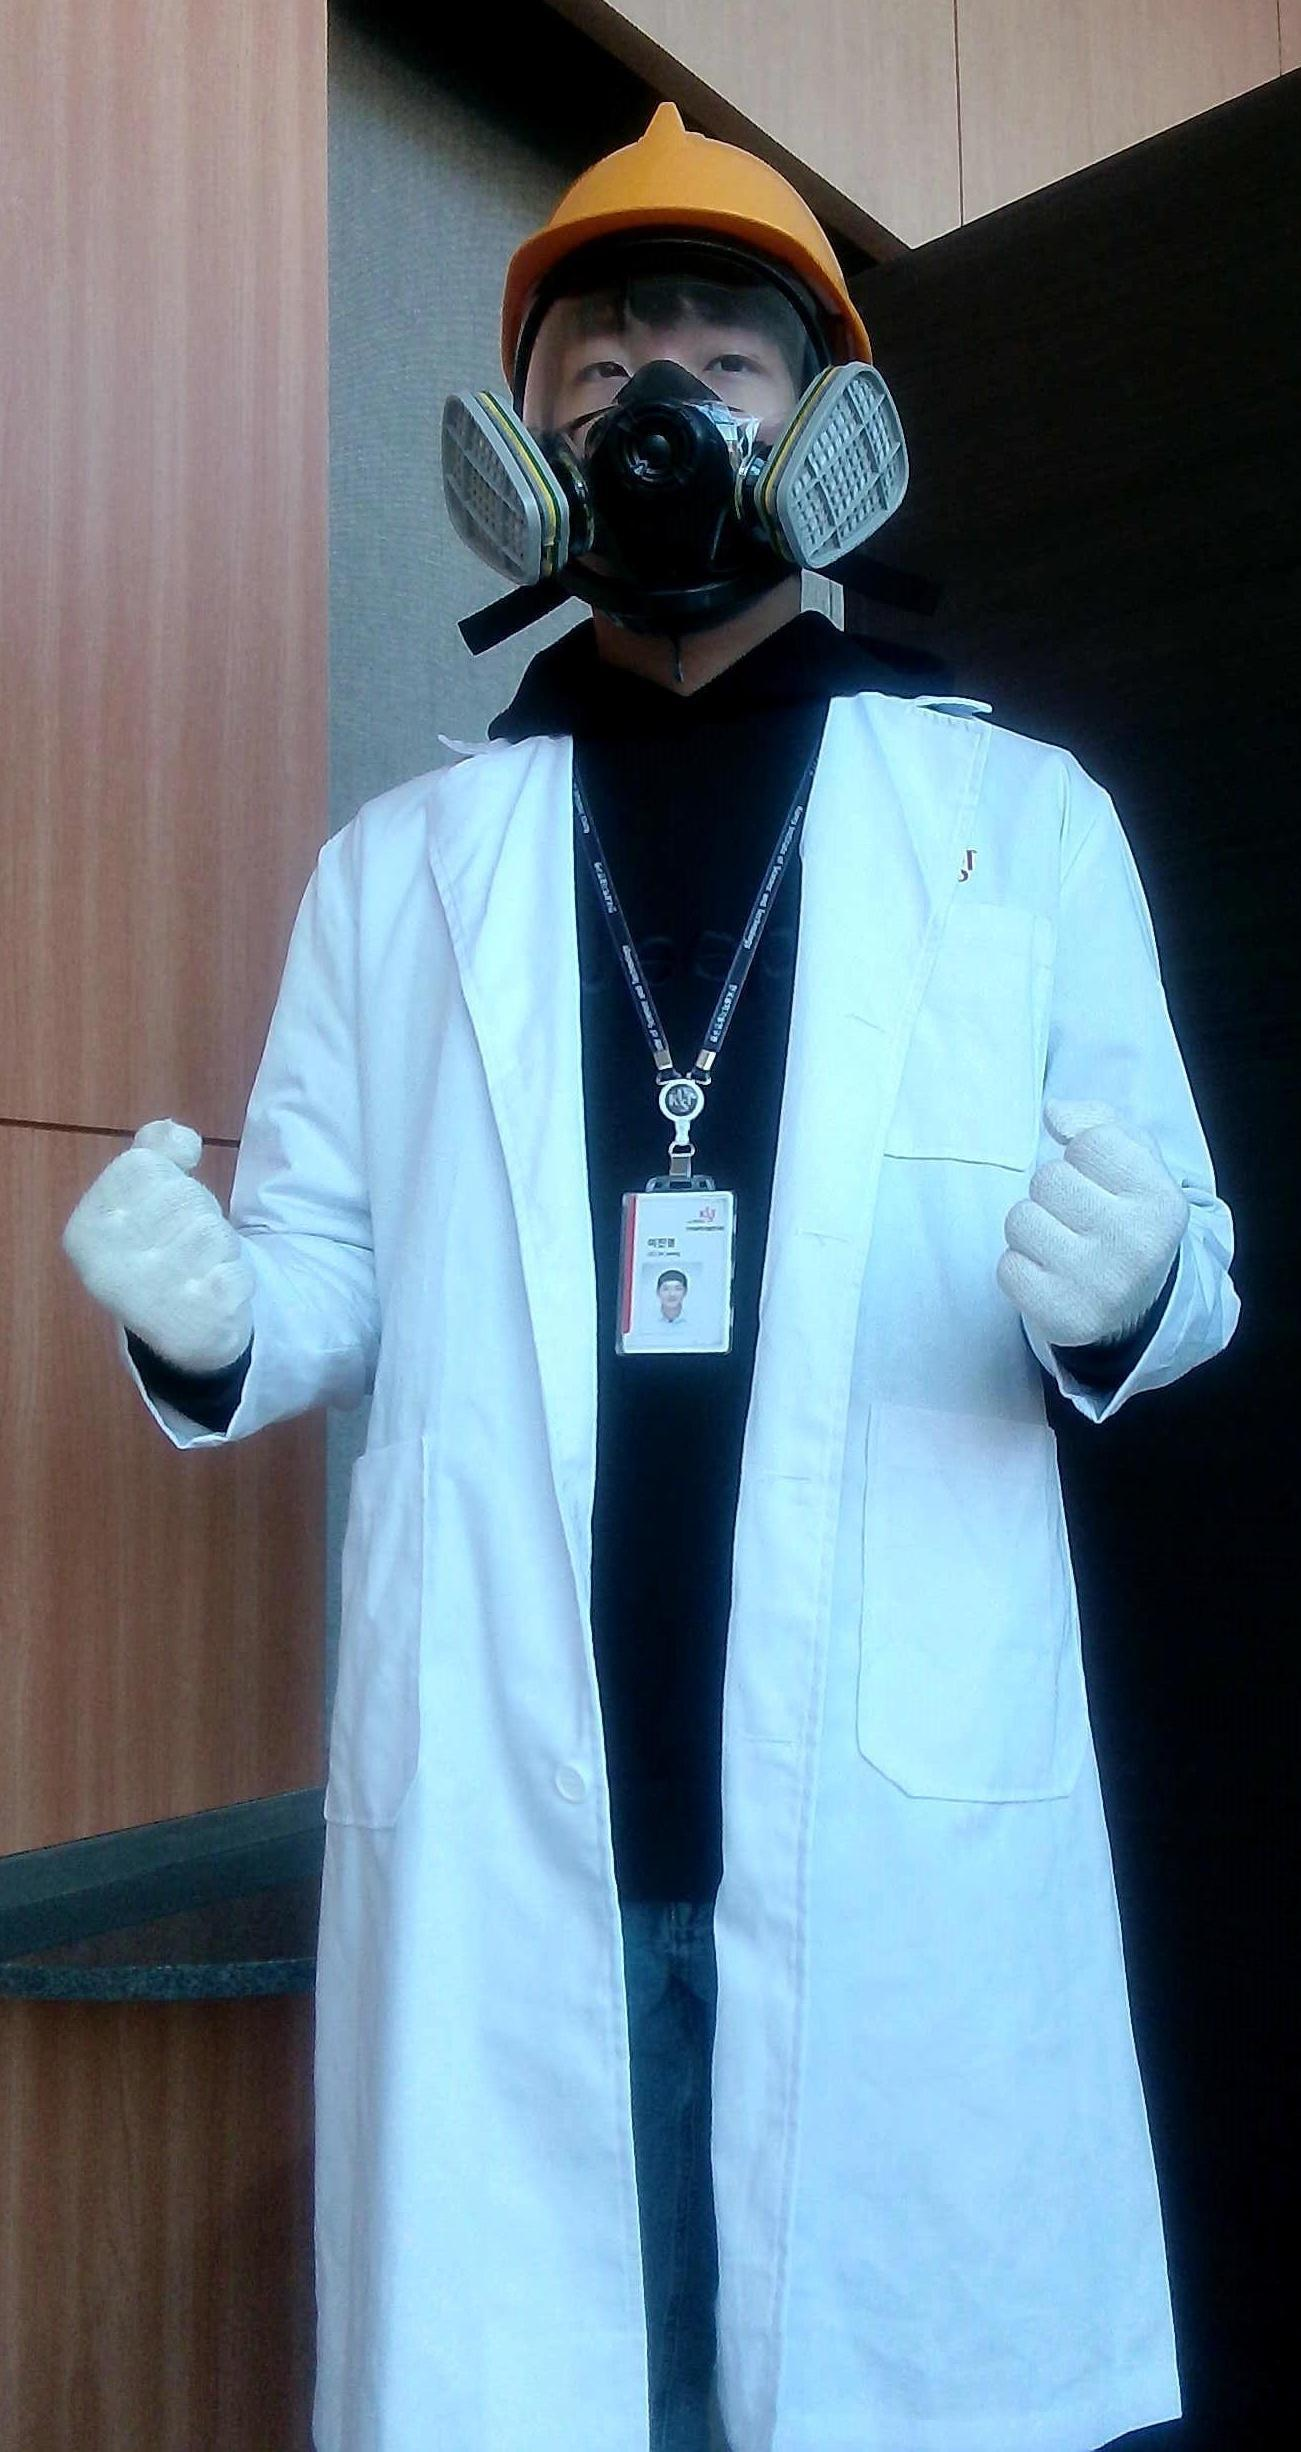lab_coat: (281, 746, 1037, 2452)
